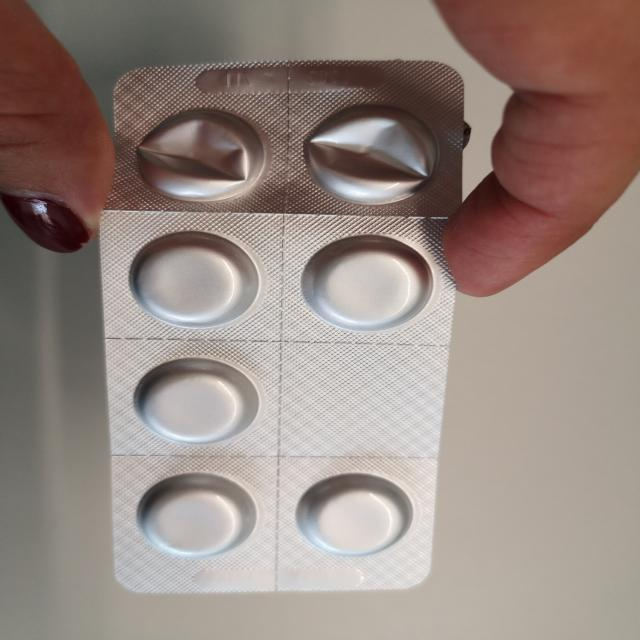Empty: (296, 96, 444, 207), (127, 104, 272, 204)
Pill: (124, 227, 262, 327), (300, 233, 434, 334), (129, 355, 264, 447), (131, 471, 260, 562), (292, 471, 418, 560)
